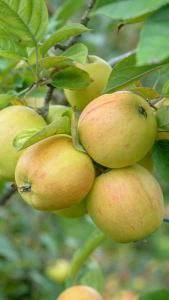Apple: (78, 91, 158, 169), (14, 134, 96, 210)
